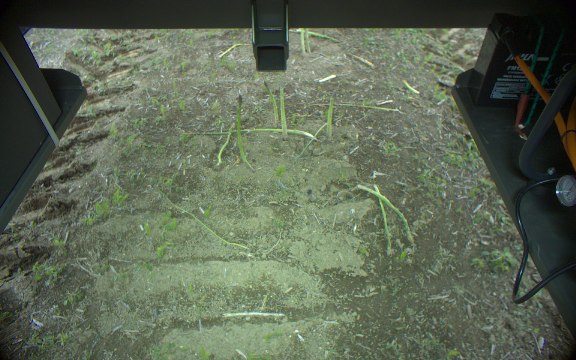aspa: (233, 89, 249, 170), (261, 78, 278, 124), (276, 84, 289, 138), (324, 89, 337, 141), (302, 29, 313, 54), (298, 28, 305, 55)
